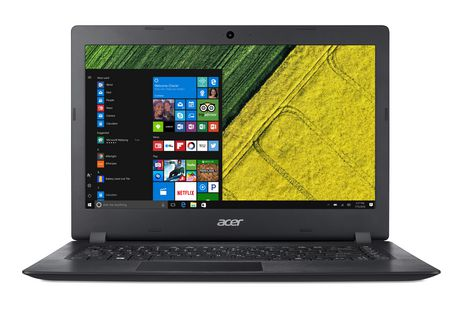Laptop: (18, 18, 444, 293)
